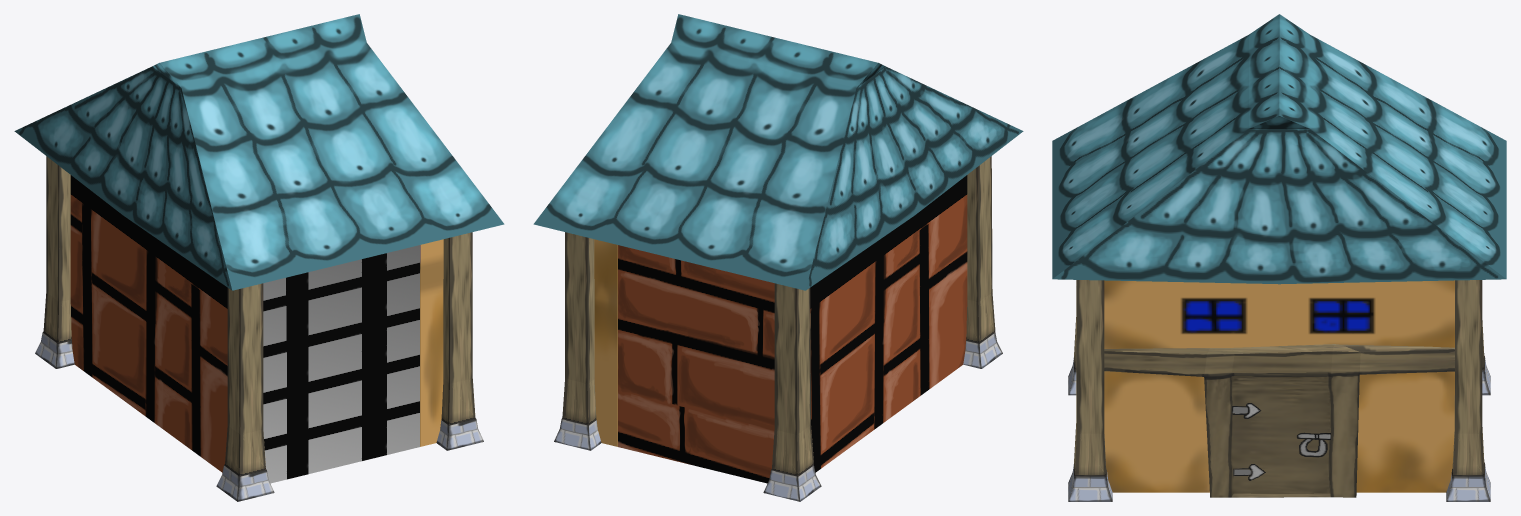
Rendered from House.fbx.
The picture shows the model from 3 angles, left to right: view 1: azimuth 30°, elevation 25°; view 2: azimuth 150°, elevation 25°; view 3: azimuth 270°, elevation 25°; orthographic projection. The views are drawn at different scales.
Visible parts, largest first — view 1: Roof, BackOfHouse, Pillar.002, Pillar.001, Pillar.003, FrontOfHouse; view 2: Roof, BackOfHouse, Pillar.003, Pillar, Pillar.002, FrontOfHouse; view 3: Roof, FrontOfHouse, DoorFrame, Pillar.001, Pillar.
Part boxes in pixels (box(x1,y1,x2,y2)): Roof: box(14, 14, 504, 290); BackOfHouse: box(70, 175, 419, 483); Pillar.002: box(216, 283, 274, 501); Pillar.001: box(436, 232, 483, 450); Pillar.003: box(35, 156, 74, 368); FrontOfHouse: box(420, 239, 443, 446); Roof: box(533, 14, 1023, 290); BackOfHouse: box(618, 175, 967, 483); Pillar.003: box(763, 283, 821, 501); Pillar: box(554, 232, 601, 450); Pillar.002: box(963, 156, 1002, 368); FrontOfHouse: box(594, 239, 617, 446); Roof: box(1052, 14, 1506, 284); FrontOfHouse: box(1104, 280, 1454, 492); DoorFrame: box(1104, 344, 1454, 497); Pillar.001: box(1068, 280, 1112, 501); Pillar: box(1446, 280, 1490, 501).
Size of the model in its own units: 390 by 492 by 541.
Materials: 5 (5 with a texture image).
